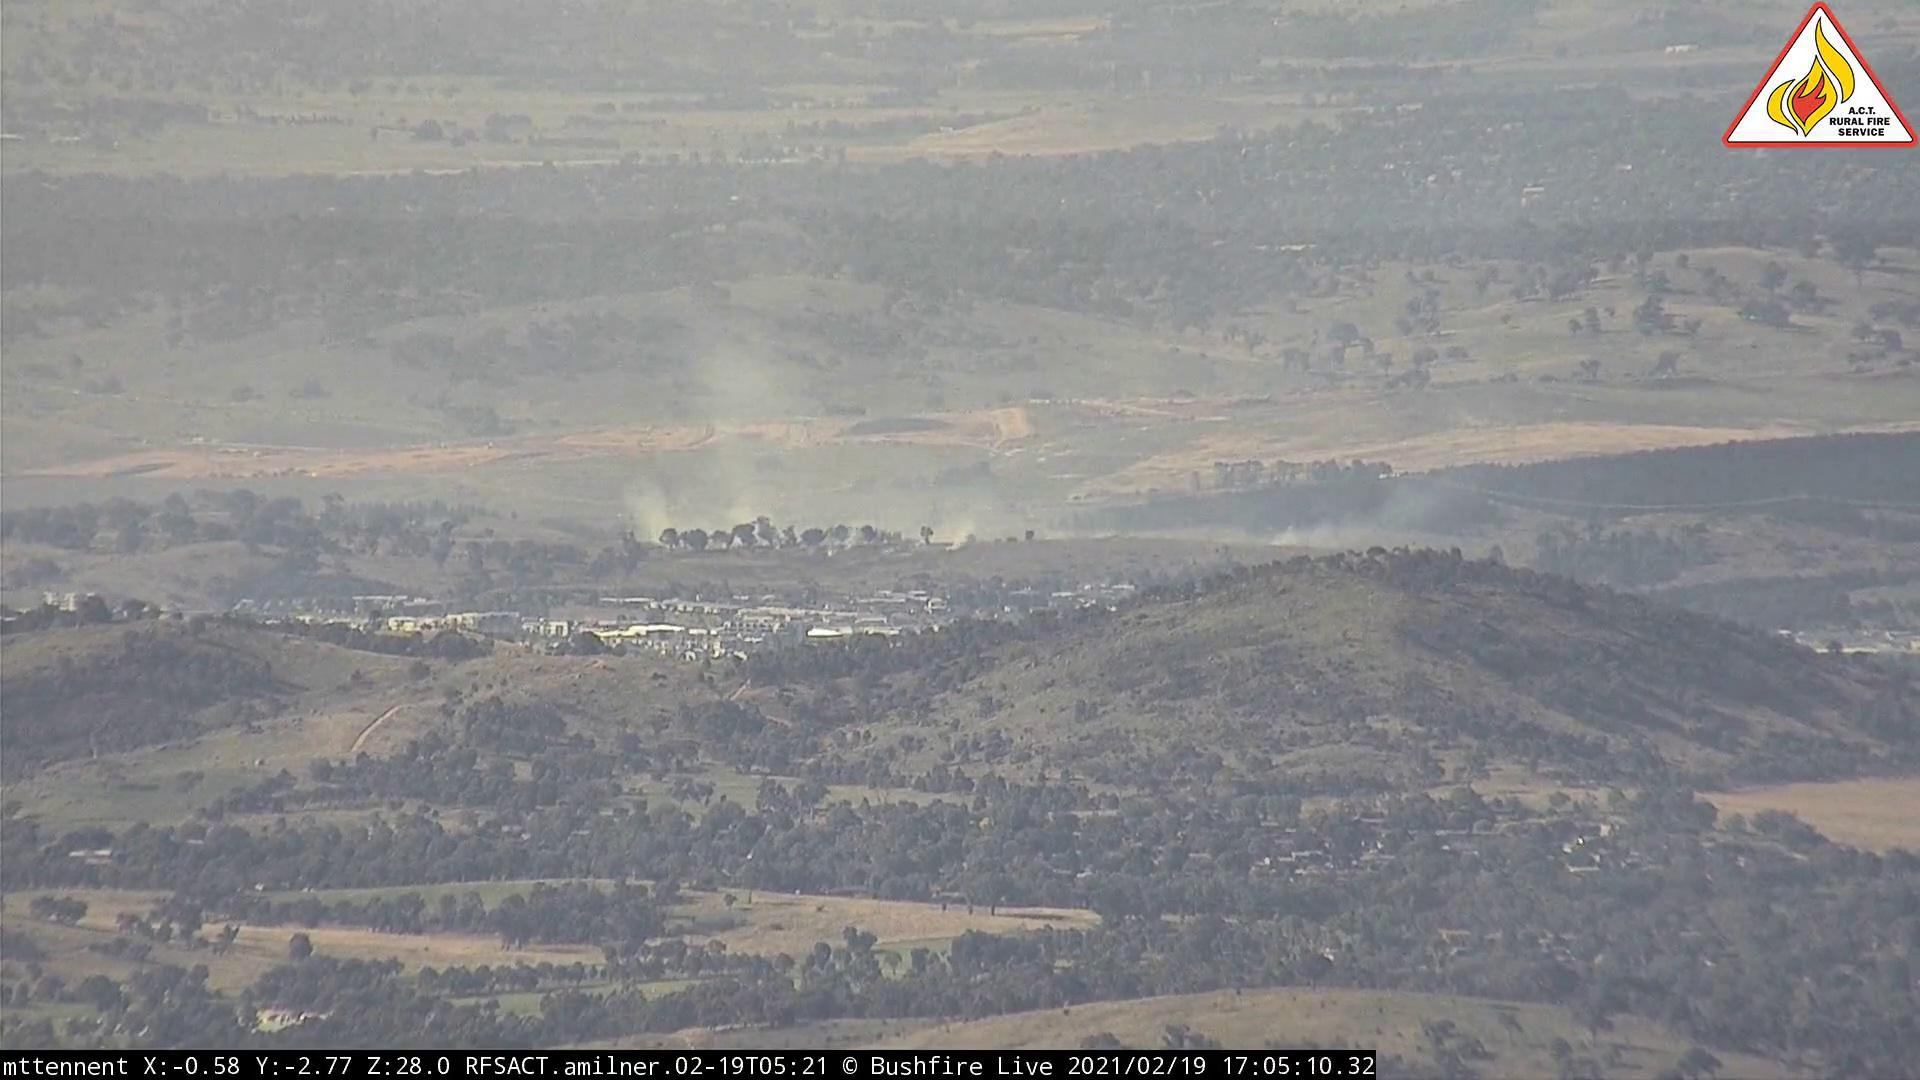Smoke: (603, 316, 1015, 553), (1236, 447, 1456, 546)
